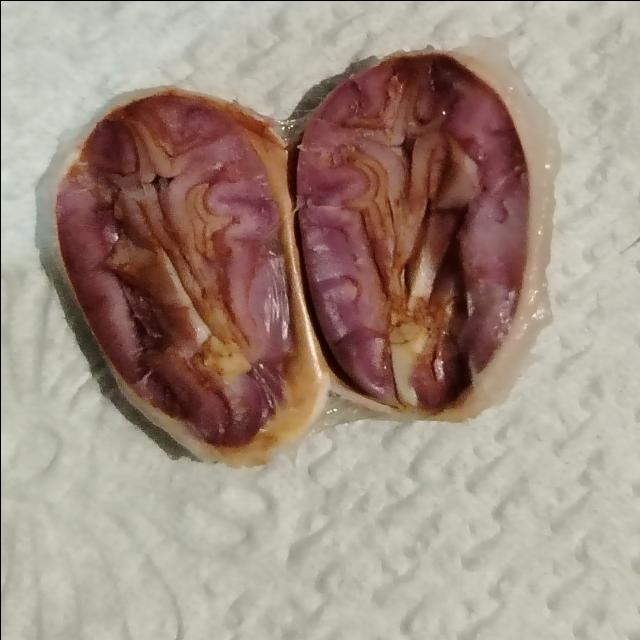Trinitario: (75, 90, 344, 448), (294, 58, 534, 402)
